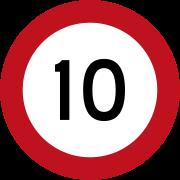Speed Limit -10-: (21, 38, 160, 150)
